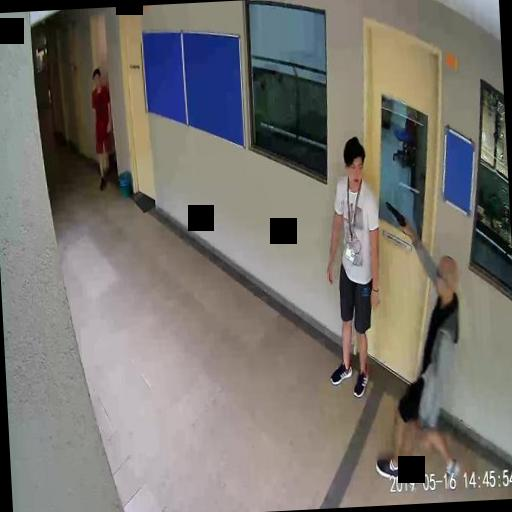Handgun: (384, 198, 406, 231)
